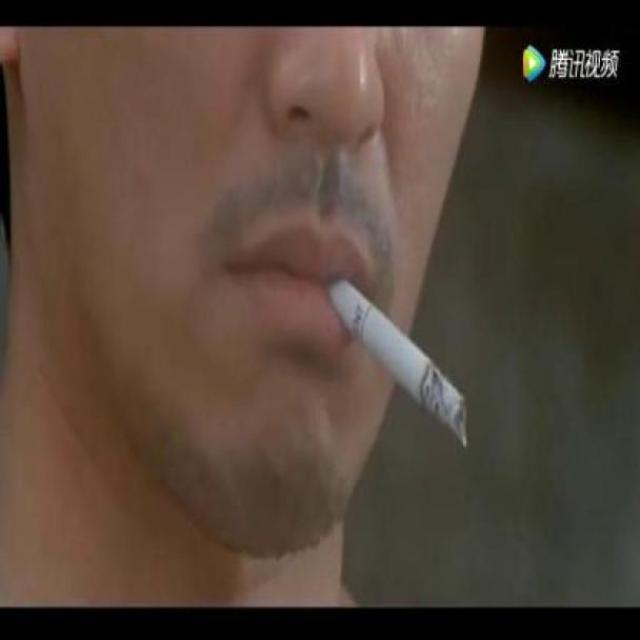rokok: (321, 262, 477, 448)
